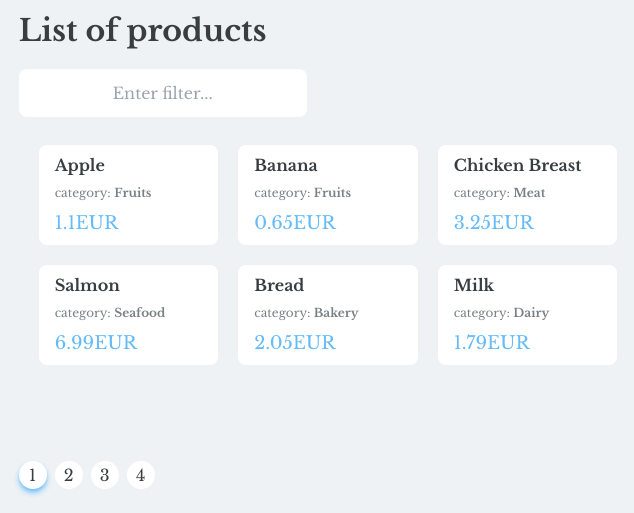
Scenario: check filter work › should show message that there is no such products
The width and height of the screenshot is (634, 513).
In the field with test id "filter-element": (163, 93) x1=19 y1=69 x2=307 y2=117, type "ujufsdjfh"
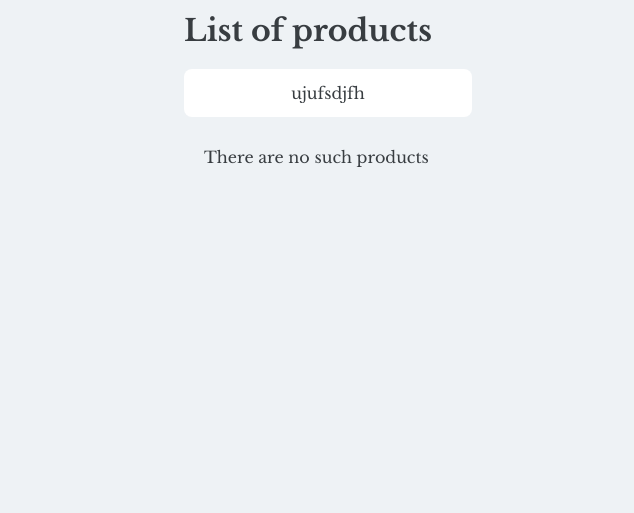
Expected: the text "There are no such products" is shown, x1=204 y1=145 x2=452 y2=169
